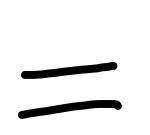eqv: (19, 62, 121, 119)
